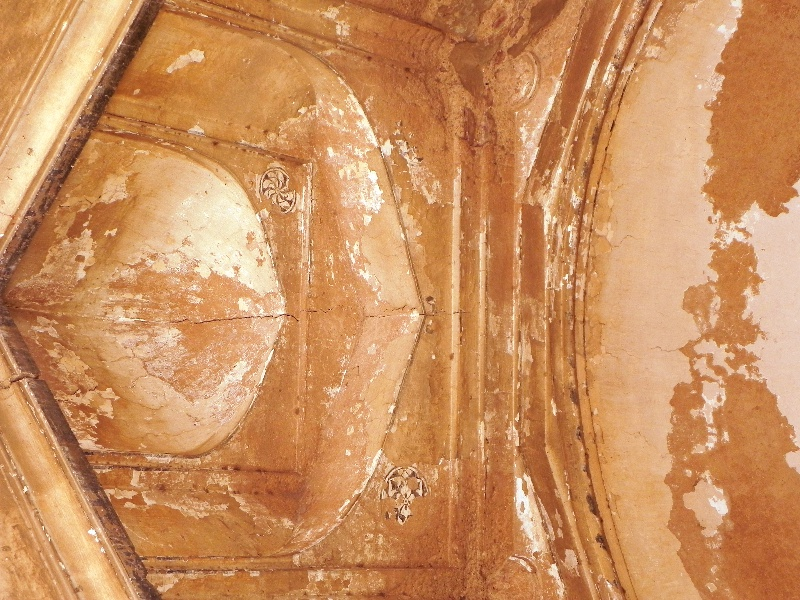Crack: (170, 310, 304, 326)
